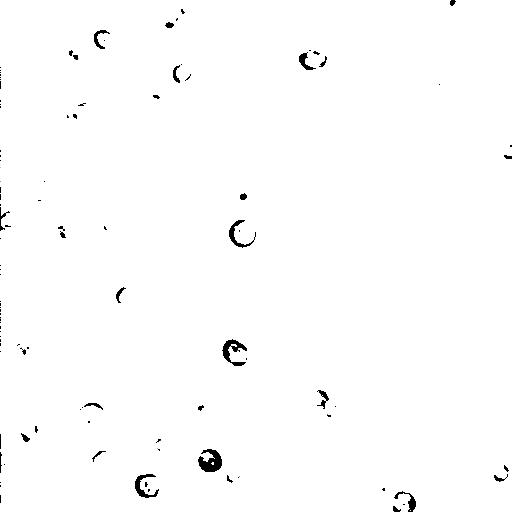micro-algae: (313, 425, 392, 498), (66, 87, 134, 152), (444, 17, 506, 78), (50, 149, 108, 207), (19, 0, 97, 36), (46, 316, 97, 367), (224, 350, 269, 395), (143, 372, 190, 415), (203, 25, 246, 68), (24, 410, 67, 452), (19, 95, 60, 139), (470, 120, 511, 158), (128, 401, 168, 439), (6, 77, 44, 115), (153, 1, 188, 37), (23, 176, 57, 209), (219, 337, 250, 369), (65, 98, 96, 129), (227, 219, 258, 250), (470, 62, 501, 92), (190, 397, 221, 427), (75, 401, 106, 430), (133, 473, 164, 499), (297, 46, 329, 71), (371, 475, 401, 501), (197, 448, 225, 474), (112, 284, 141, 309), (1, 452, 19, 492), (483, 458, 510, 483), (62, 42, 86, 70), (90, 447, 118, 471), (12, 338, 36, 365), (92, 213, 120, 235), (171, 58, 195, 83), (181, 0, 217, 16), (391, 490, 418, 511), (14, 419, 35, 445), (264, 91, 288, 113), (92, 30, 116, 51), (1, 437, 18, 466), (51, 222, 75, 242), (436, 0, 467, 14), (346, 0, 374, 15), (310, 387, 330, 408), (138, 497, 165, 512), (226, 464, 244, 484), (326, 394, 344, 413), (502, 419, 511, 454), (1, 210, 15, 232), (154, 435, 170, 452), (234, 191, 251, 204), (503, 144, 512, 161)
